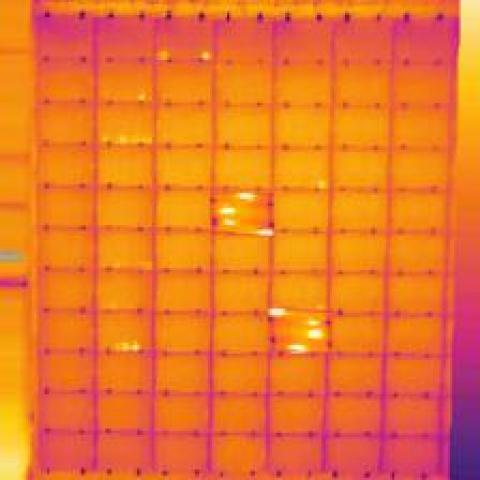fault: (101, 129, 156, 150), (112, 338, 142, 352), (280, 340, 310, 354), (266, 304, 289, 322), (302, 326, 326, 343), (133, 86, 150, 109), (230, 191, 262, 201), (214, 204, 240, 216), (251, 225, 274, 238), (311, 180, 330, 193), (221, 216, 238, 230), (197, 47, 214, 60), (302, 317, 326, 326), (156, 47, 170, 62)
